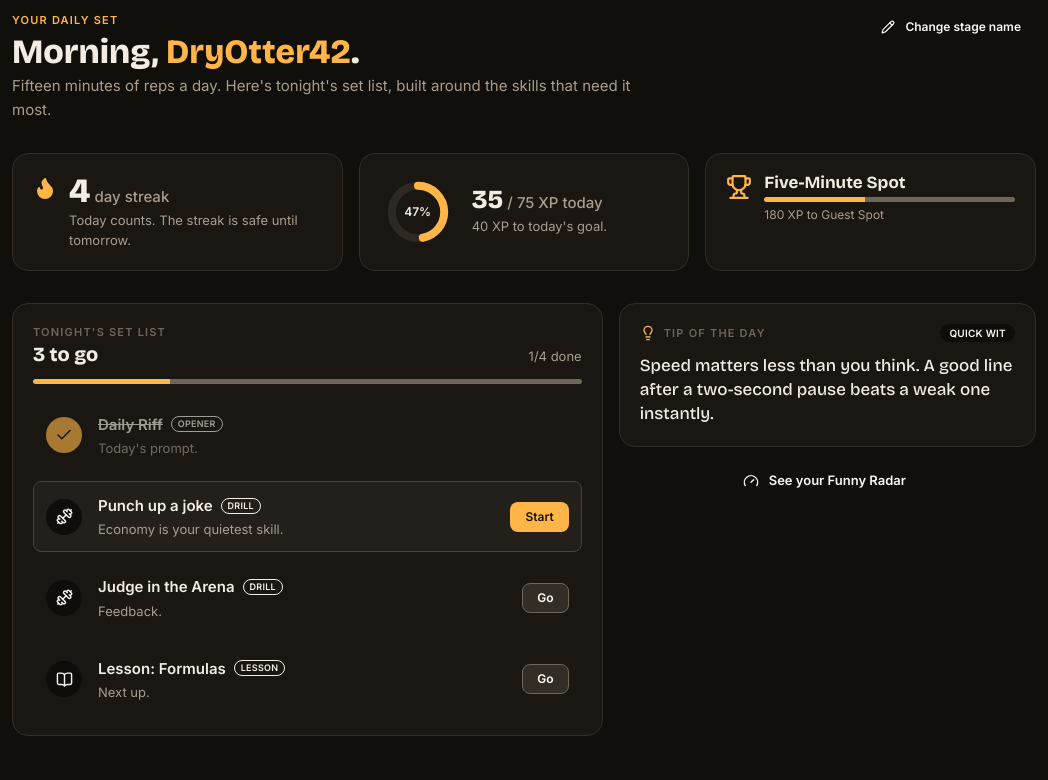
Scenario: rename the stage name inline with Enter
Check: the text "DryOtter42" is shown, box [166,31,351,72]
Click the button "Change stage name" at (954, 27), box [871,12,1036,42]
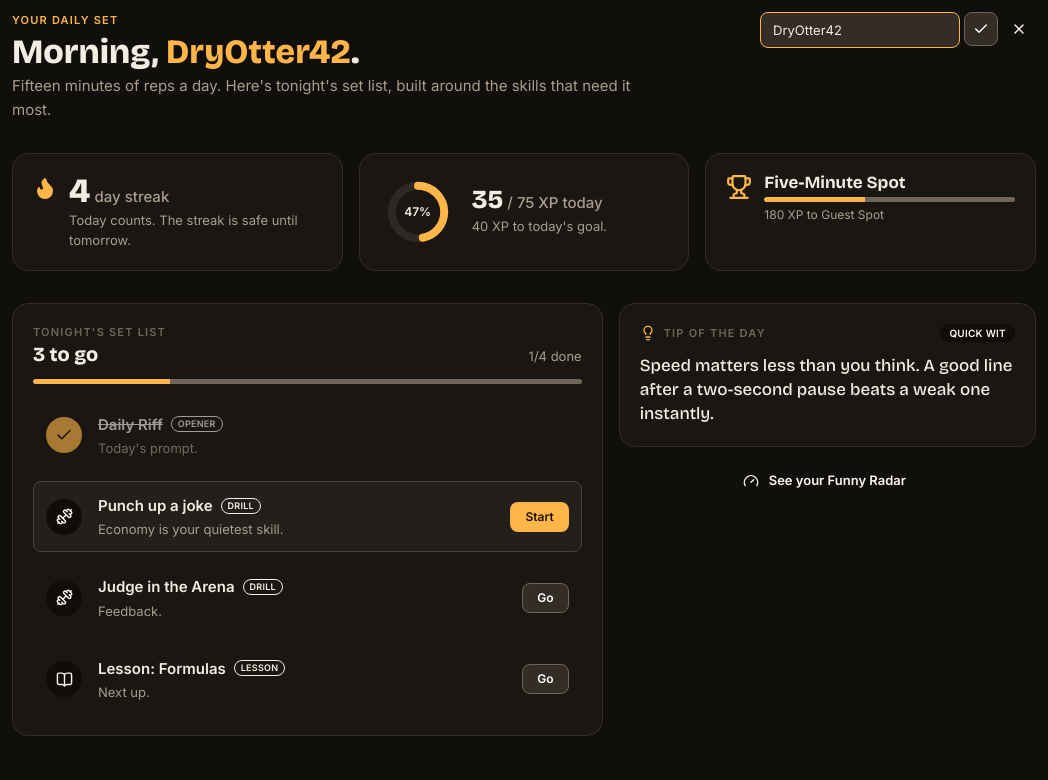
Replace the text in the field named "Stage name" with "Deadpan Dave" at (860, 30), box [760,12,960,48]
Then press Enter
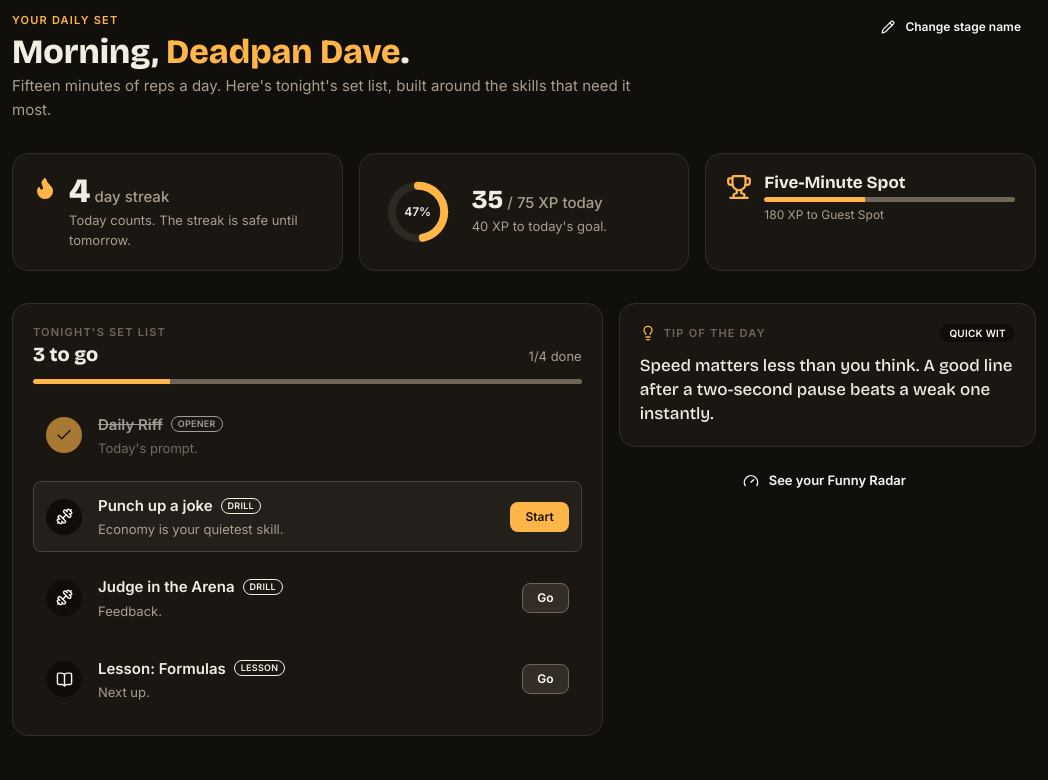
Check: the text "Deadpan Dave" is shown, box [166,31,401,72]
